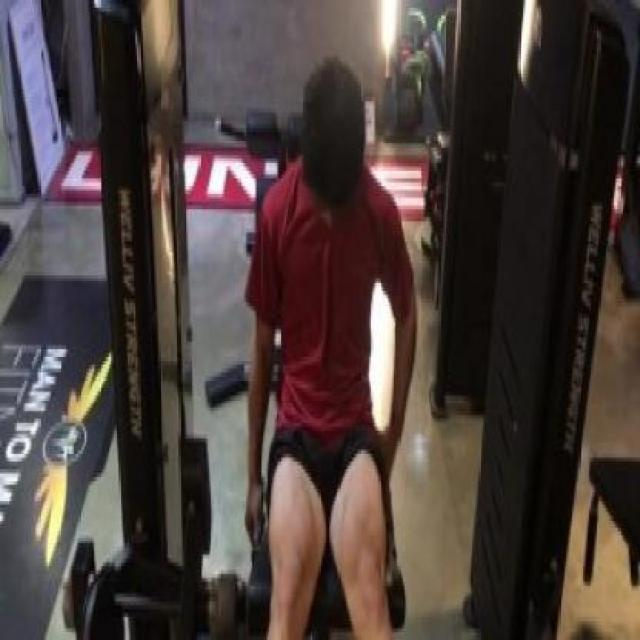leg extension: (60, 0, 426, 640)
